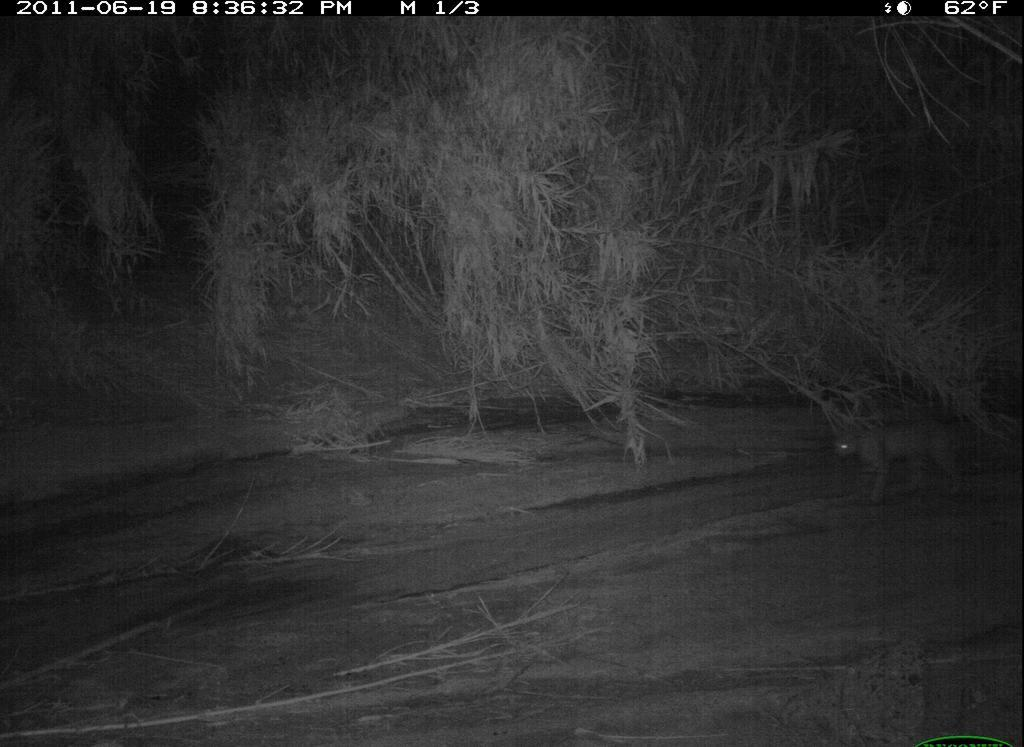bobcat: (812, 399, 994, 520)
